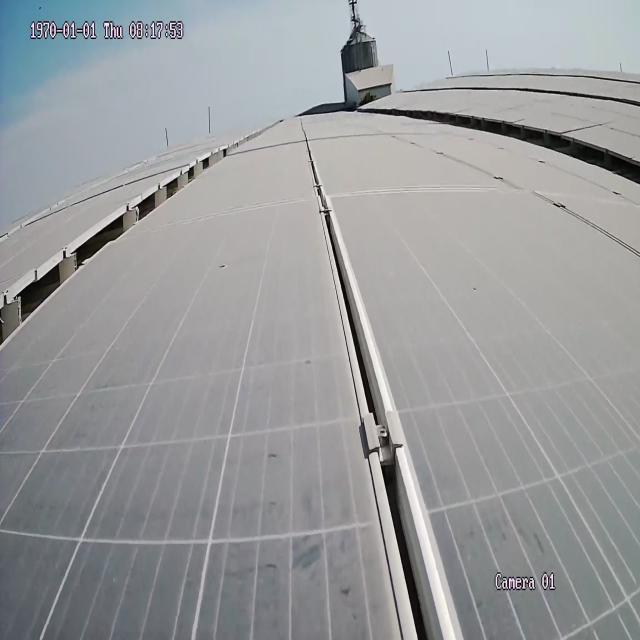interior panel: (304, 138, 457, 640)
outher panel: (5, 137, 247, 343), (357, 108, 638, 180)
